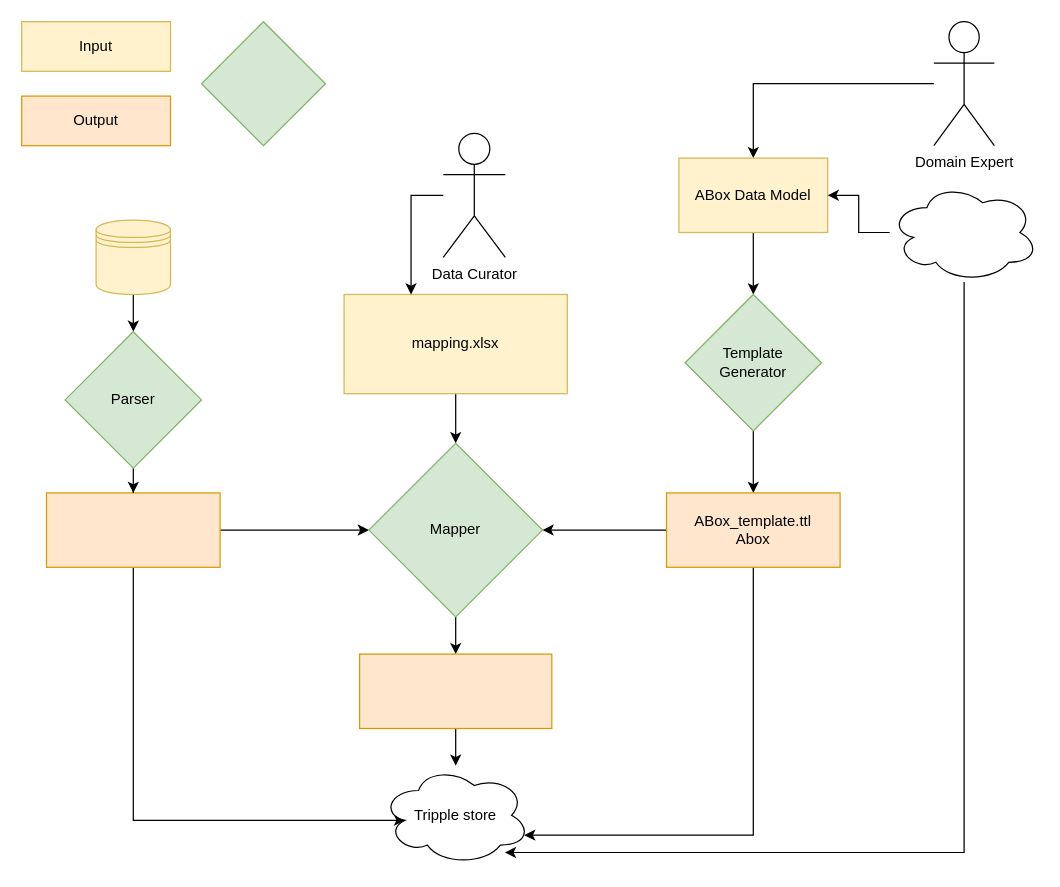
This 1060x887 diagram has some shape labels left out. The shapes that lost their labels are listed below. From the top down, each one's box as (x1, y1, x2, y2) in pixels, then its label:
(200, 20, 326, 146): Function
(888, 182, 1038, 282): Ontology Tbox
(95, 219, 170, 294): Data Silos
(45, 492, 220, 567): *.metadata.ttl
(358, 653, 552, 728): mapping.ttl
